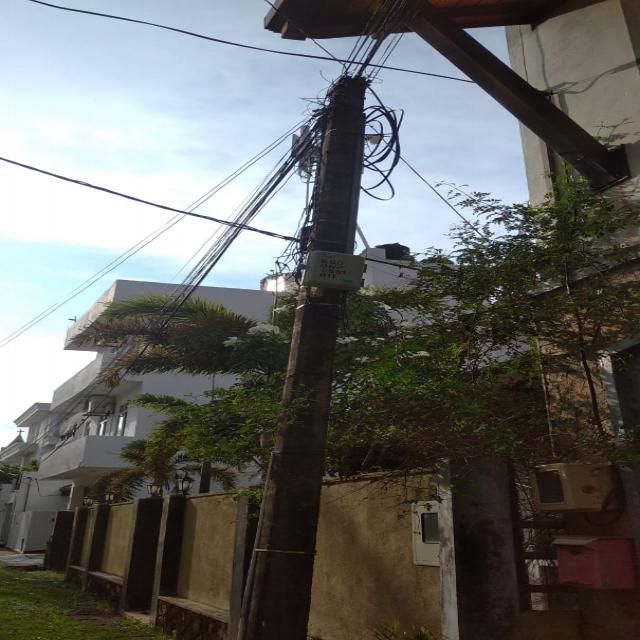light_pole: (225, 74, 383, 640)
